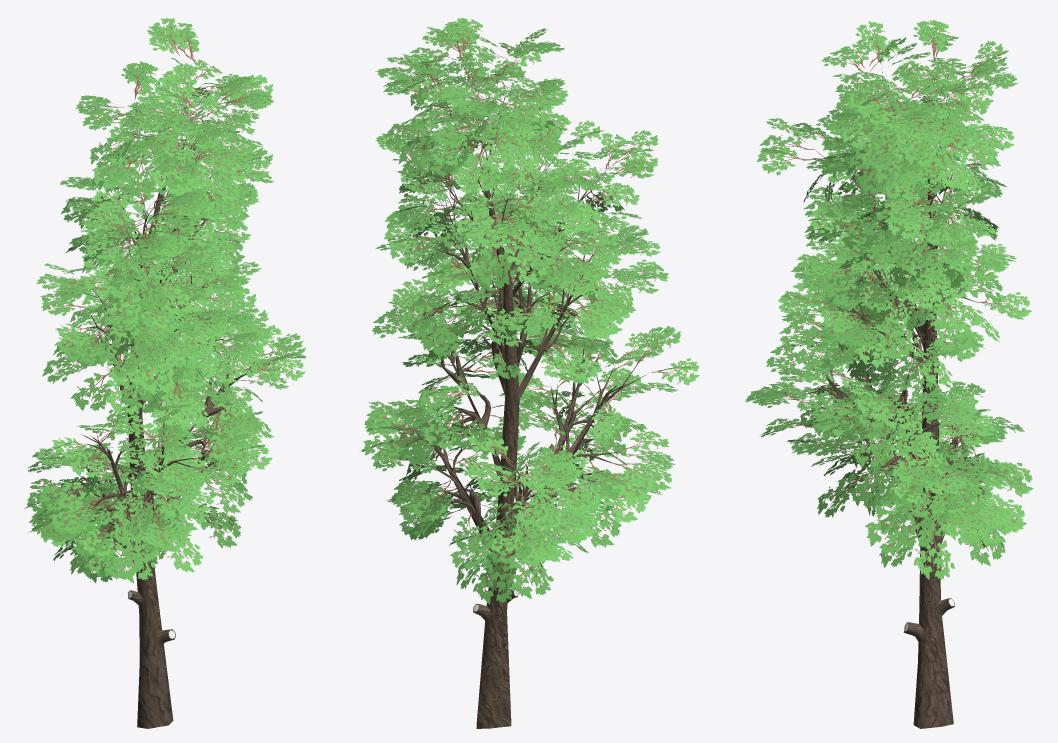
File: big-3.fbx
3 renders of one model, left to right at view 1: azimuth 30°, elevation 25°; view 2: azimuth 150°, elevation 25°; view 3: azimuth 270°, elevation 25°, orthographic. The views are drawn at different scales.
Visible parts, largest first — view 1: big_3; view 2: big_3; view 3: big_3.
Part boxes in pixels (box(x1,y1,x2,y2)): big_3: box(24, 18, 306, 728); big_3: box(361, 18, 699, 728); big_3: box(745, 19, 1033, 728).
Bounding box in the file's own units: 14.32 × 30.01 × 11.97.
3 materials, 2 textured.
